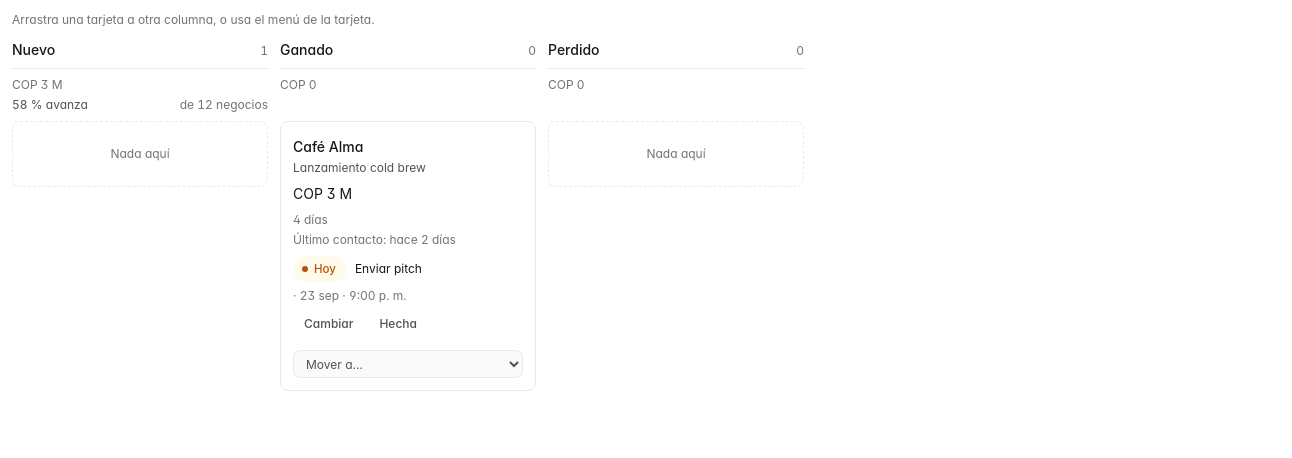
Test: PipelineBoard › si el servidor no deja reabrir un ganado, lo dice con su motivo
Select "Nuevo" in the dropdown named "Mover «Café Alma» a otra etapa" at (408, 364), box [293,350,523,378]
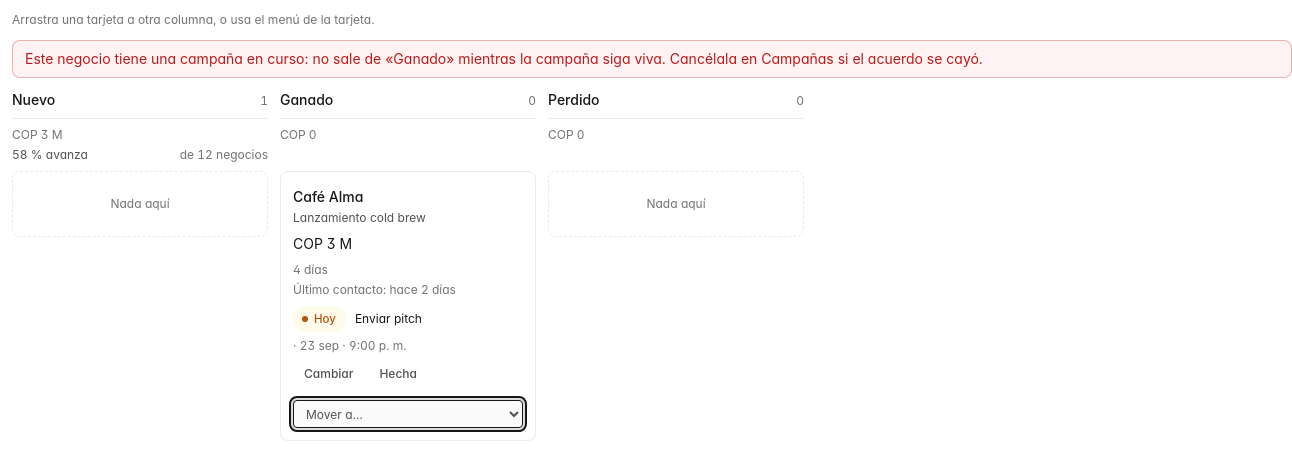
Expected: the link "Café Alma" is shown, [293,188,363,205]
Expected: the message shows "campaña en curso", [25,50,983,67]
